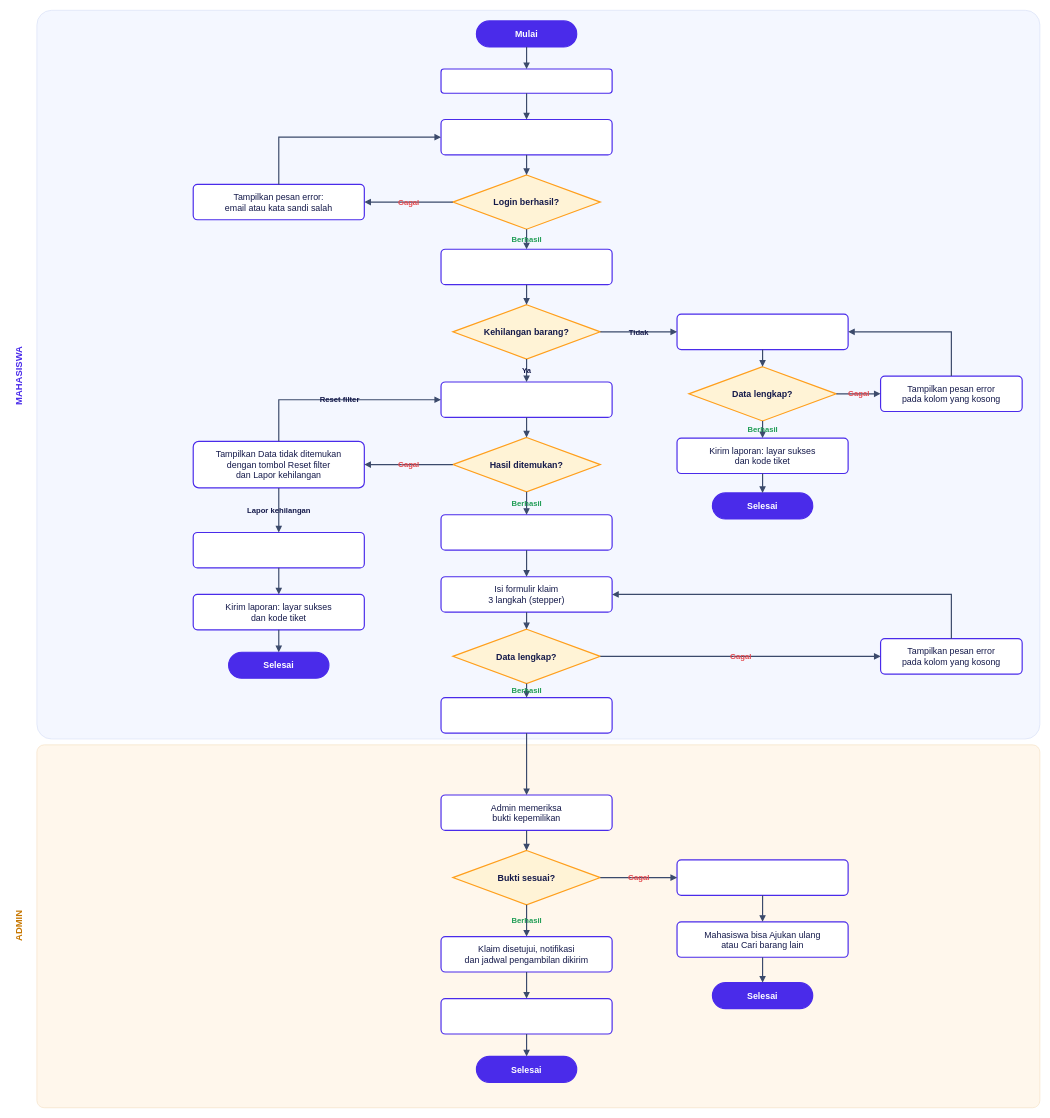
Some shapes in this 1050 by 1118 pixel diagram are drawn without their labels. Here are the shapes that lost their labels. From the top down, the box of each, then its label:
(440, 68, 612, 94): Buka website FIND & FOUND
(440, 119, 612, 155): Isi email dan kata sandi, lalu tekan Masuk
(440, 248, 612, 285): Beranda: lihat laporan terbaru dan pilih layanan
(676, 313, 848, 350): Isi formulir penemuan 3 langkah (stepper)
(440, 381, 612, 418): Cari barang di katalog dengan kata kunci dan filter
(192, 532, 365, 568): Isi formulir kehilangan 3 langkah (stepper)
(440, 514, 612, 550): Buka detail barang, pilih jadwal, lalu tekan Ajukan klaim
(440, 697, 612, 733): Kirim klaim: layar sukses dan kode tiket
(676, 859, 848, 896): Klaim ditolak, notifikasi dan alasan dikirim
(440, 998, 612, 1034): Mahasiswa ambil barang; status: Dikembalikan
